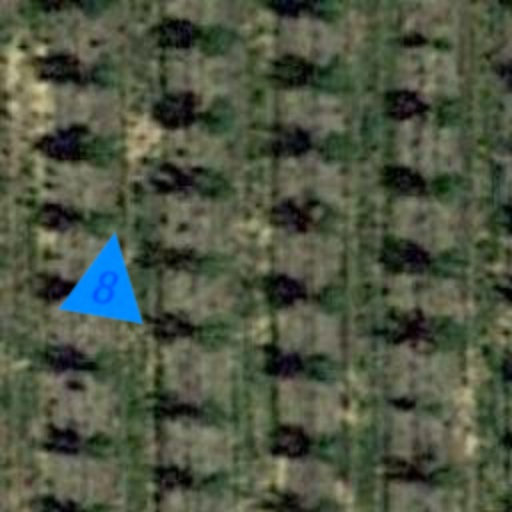triangle: (58, 224, 158, 324)
